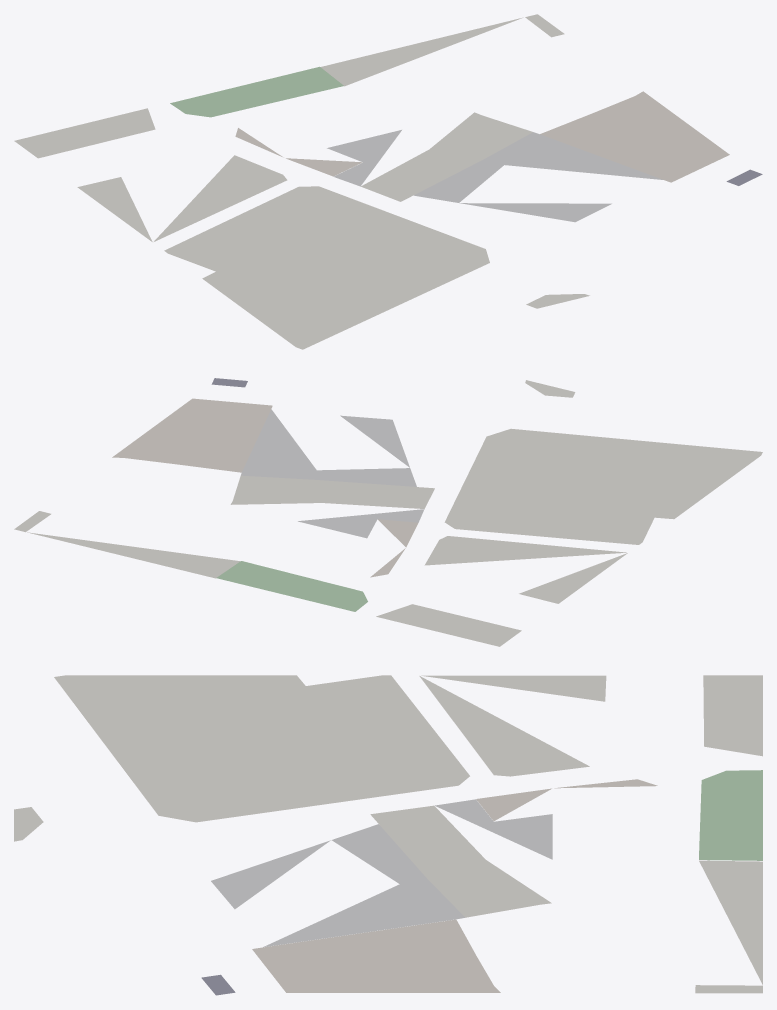
The model's file is 101_104_mid.glb.
3 views of the same model, one above another, from view 1: azimuth 30°, elevation 25°; view 2: azimuth 150°, elevation 25°; view 3: azimuth 270°, elevation 25° (orthographic). The views are drawn at different scales.
Size of the model in its own units: 504 by 0.9524 by 500.
